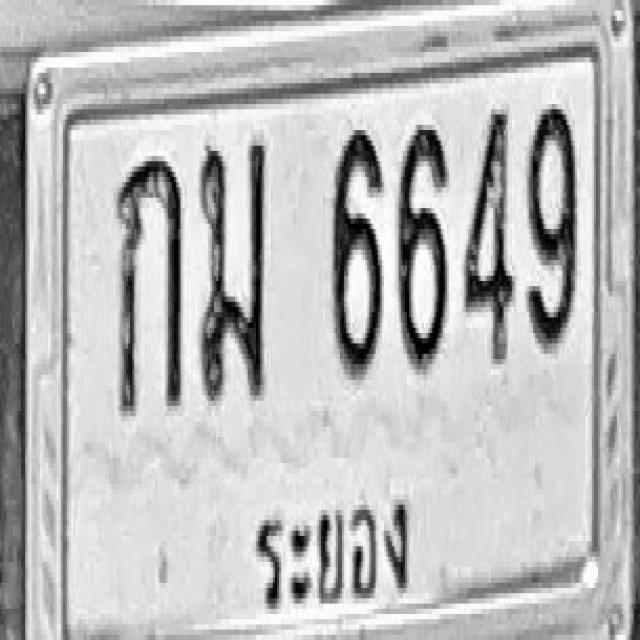10GorGai: (115, 154, 182, 414)
4: (463, 106, 513, 362)
42MorMa: (198, 135, 266, 401)
6: (331, 122, 382, 378), (397, 120, 447, 370)
9: (526, 104, 576, 349)
Rayong: (248, 483, 413, 608)
